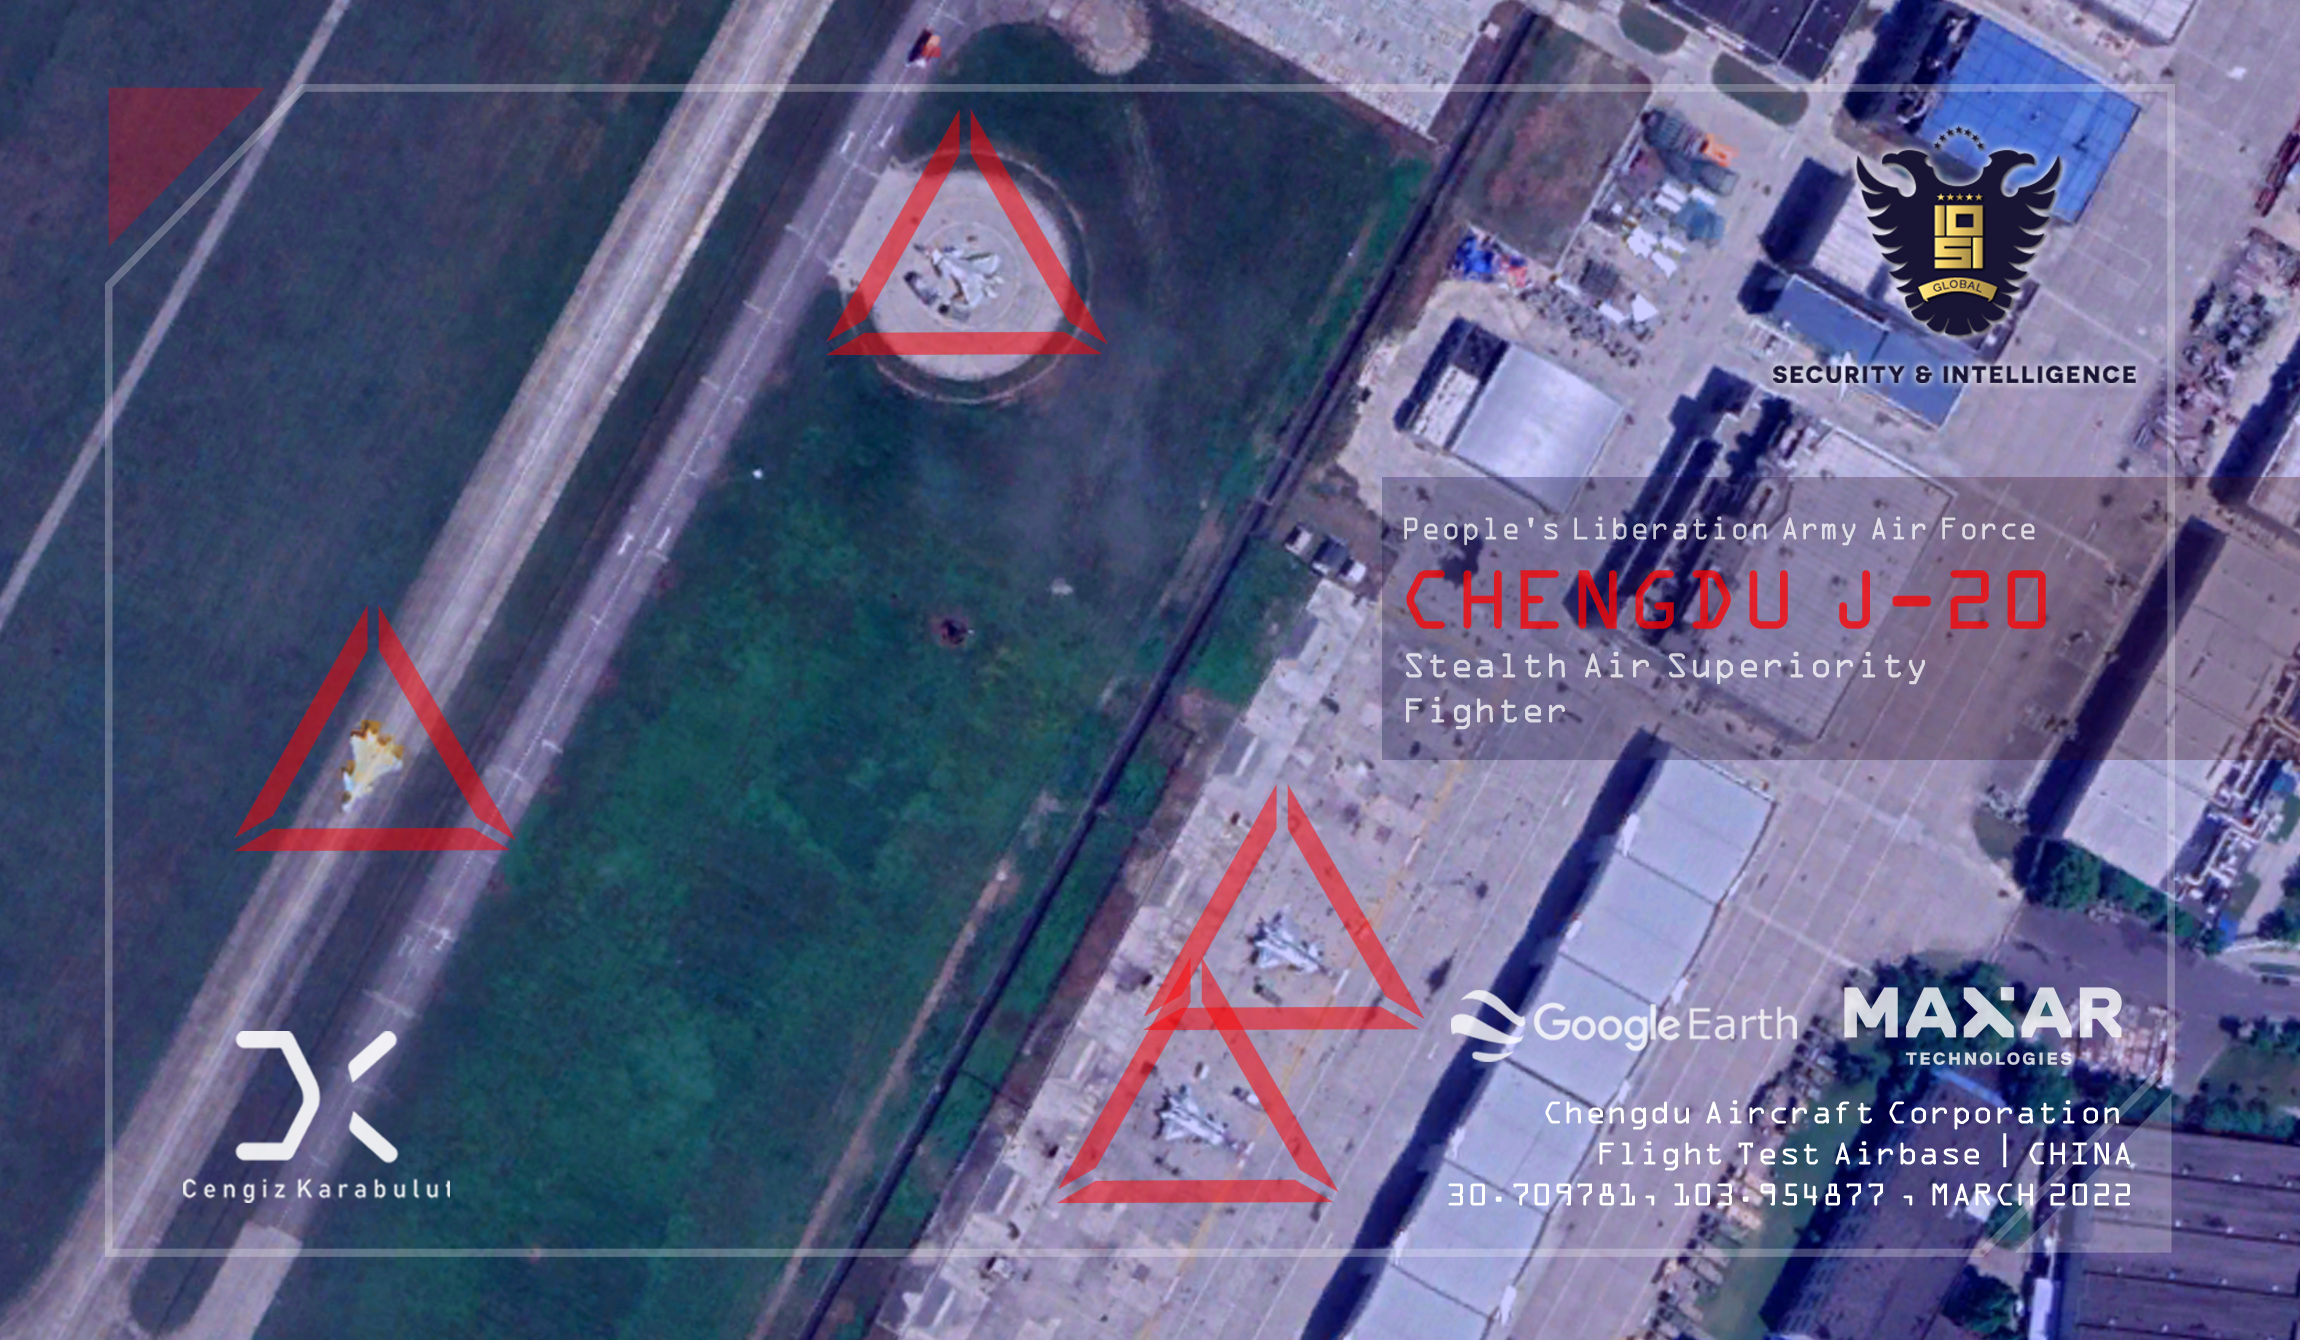J20: (338, 726, 405, 817), (917, 246, 1006, 309), (1250, 909, 1333, 978), (1156, 1085, 1238, 1152)
